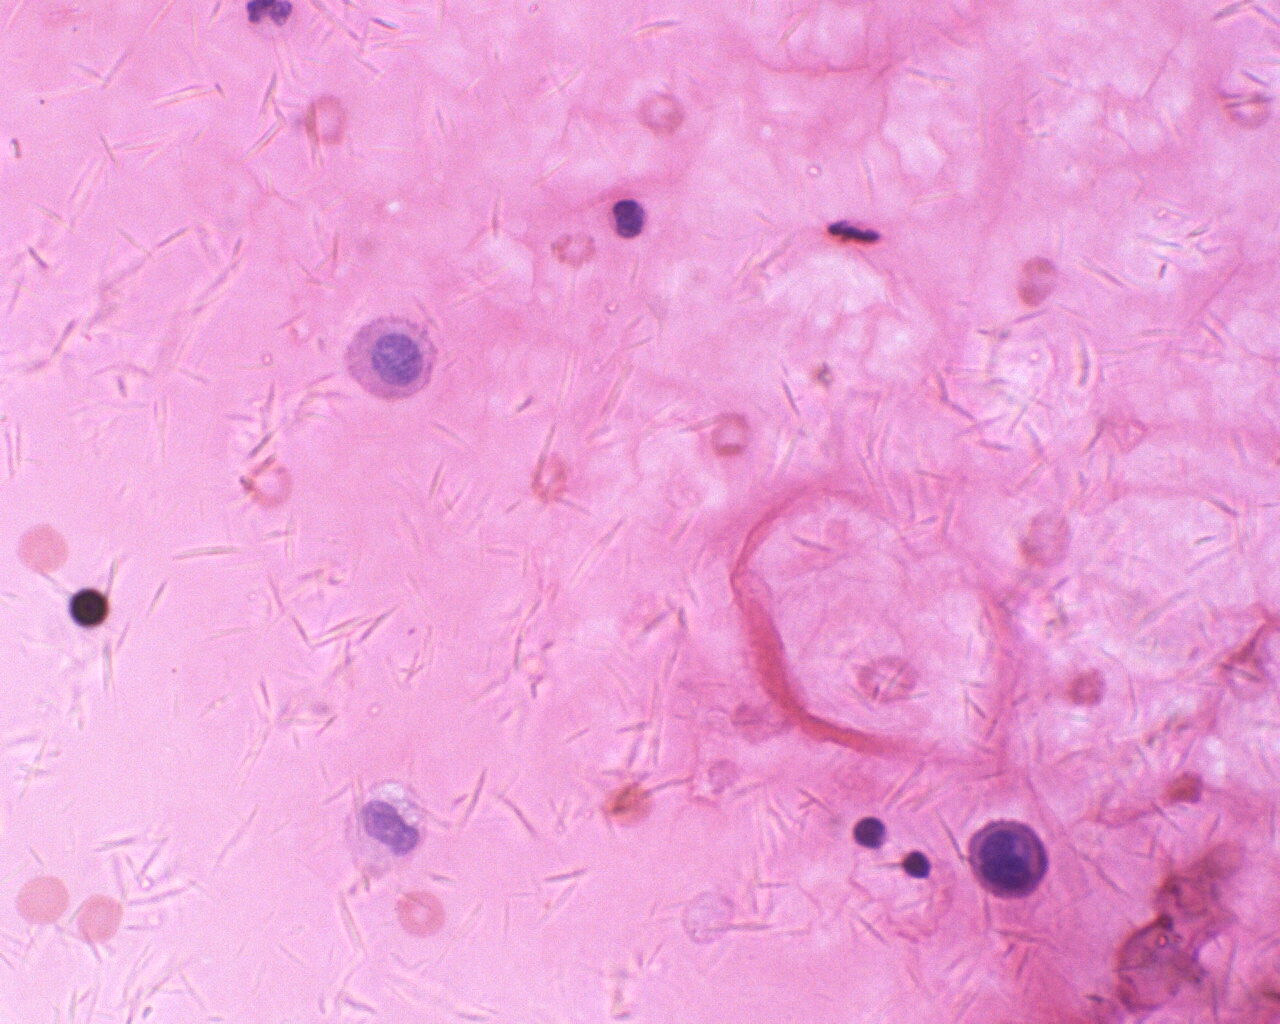ab: (964, 812, 1052, 905)
lymph: (850, 807, 894, 851), (605, 197, 649, 240), (898, 841, 934, 886)
meso: (341, 310, 441, 405)
